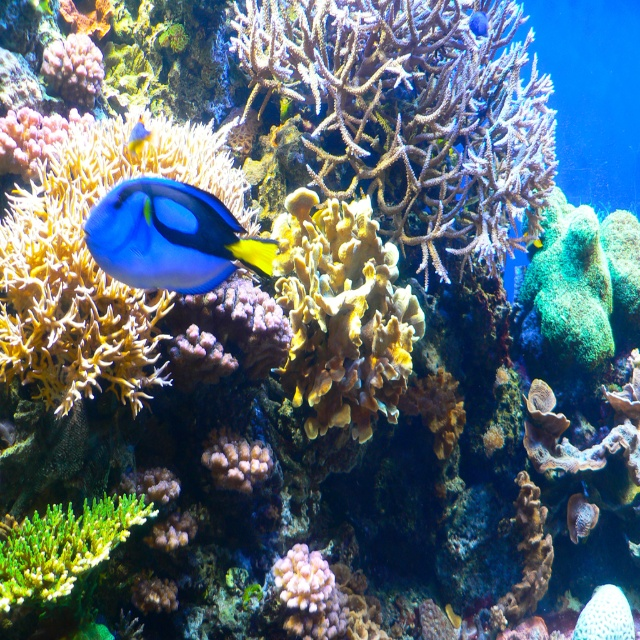Fish: (81, 174, 281, 296)
